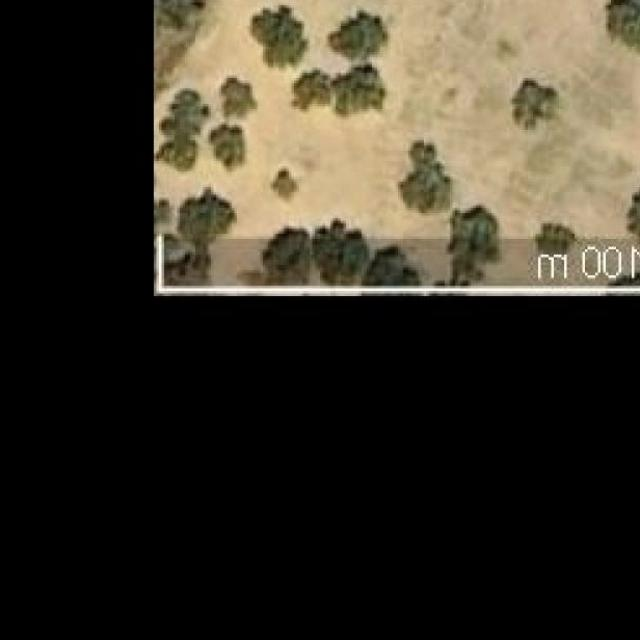Tree: (434, 204, 502, 286), (156, 89, 211, 170), (400, 138, 450, 214), (315, 218, 367, 286), (250, 5, 306, 68), (328, 5, 384, 62), (177, 190, 237, 242), (262, 228, 310, 284), (512, 78, 562, 130), (369, 244, 424, 289), (332, 66, 382, 112), (208, 124, 249, 174), (533, 218, 575, 260), (606, 0, 640, 49), (218, 76, 255, 120), (291, 68, 327, 107), (157, 0, 204, 28), (626, 177, 640, 249), (270, 170, 296, 200)
